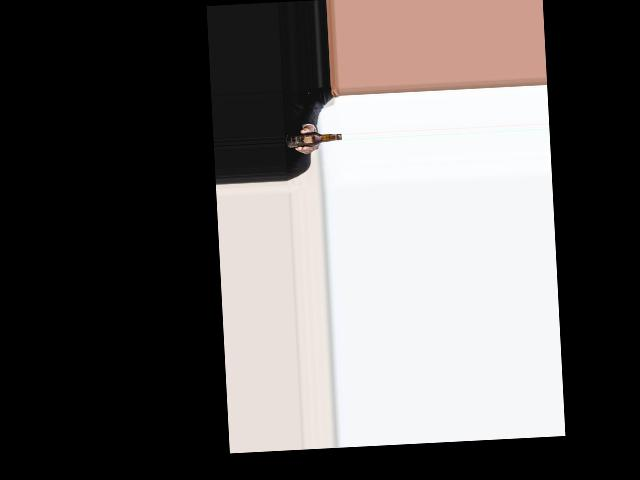beer: (286, 131, 341, 148)
